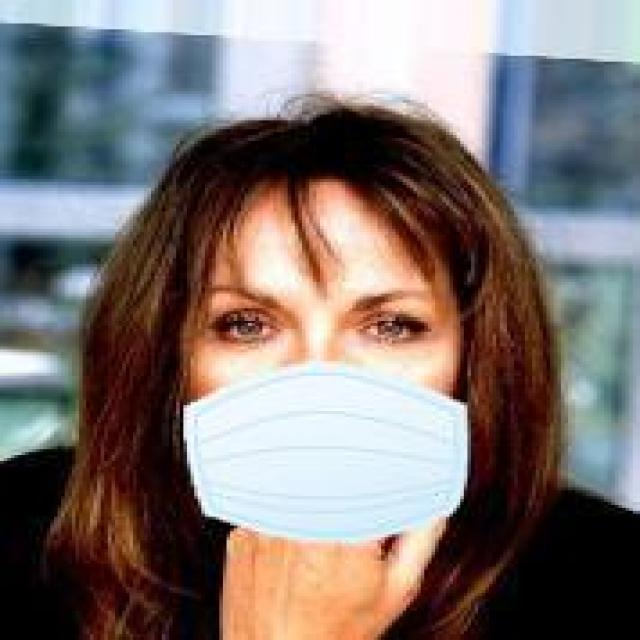mask: (97, 94, 568, 564)
